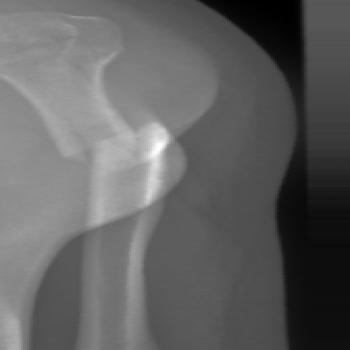Fracture: (55, 119, 169, 168)
